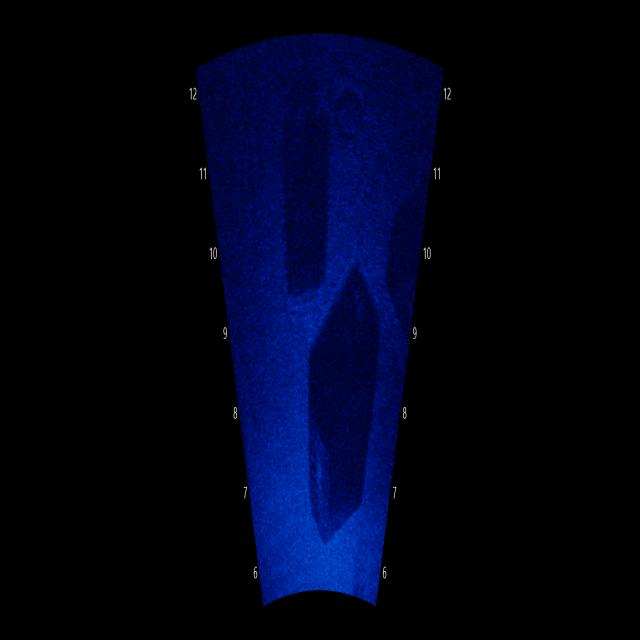square: (298, 242, 388, 554), (276, 83, 338, 316)
